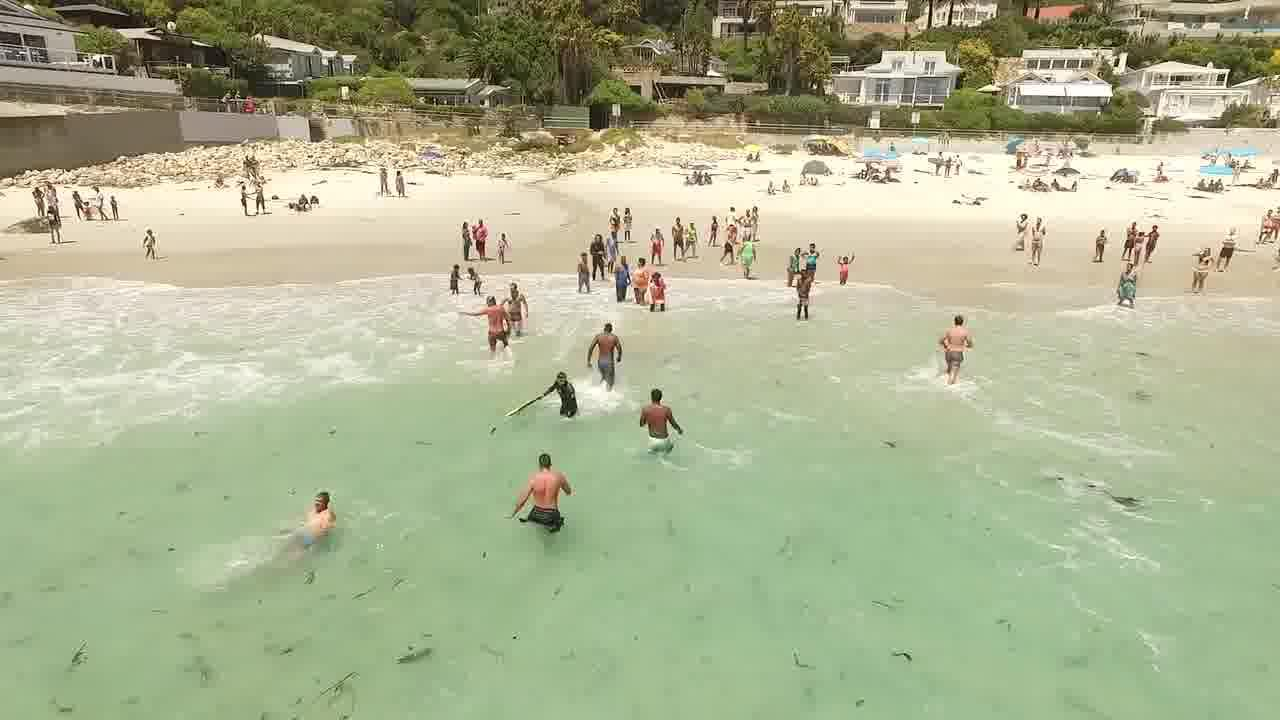human: (266, 480, 357, 549)
